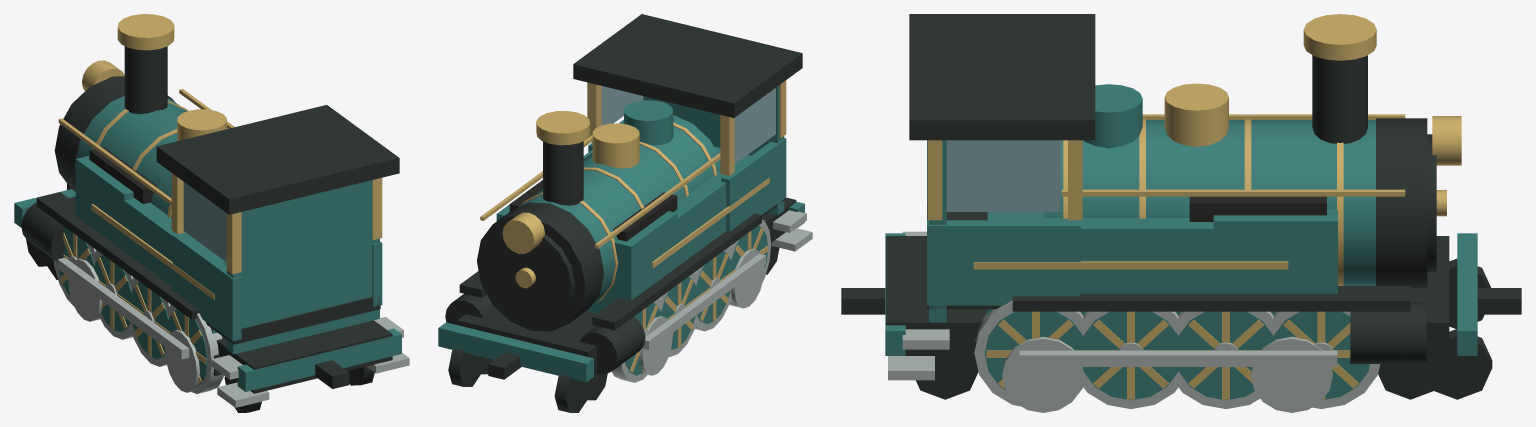
Rendered from alpine-monarch-lod1.glb.
The picture shows the model from 3 angles, left to right: view 1: azimuth 30°, elevation 25°; view 2: azimuth 150°, elevation 25°; view 3: azimuth 270°, elevation 25°; orthographic projection. The views are drawn at different scales.
Parts seen in each view (by area): view 1: frame.001, boiler.001, door_handle.001, water_tank.001, rod_-0.001, cab_glass.001, cab_step.001, tender_wheel.005, tender_wheel.004, coal_bed.001, wheel_face.010, wheel_tyre.011 (+11 smaller); view 2: frame.001, boiler.001, door_handle.001, water_tank.001, cab_glass.001, rod_-0.001, coal_bed.001, cab_step.001, tender_wheel.005, tender_wheel.004, pony_wheel.010, pony_wheel.007 (+11 smaller); view 3: frame.001, boiler.001, water_tank.001, door_handle.001, cab_glass.001, rod_0.001, wheel_face.014, tender_wheel.007, wheel_face.013, tender_wheel.006, coal_bed.001, tender_stripe.001 (+15 smaller).
Boxes of the visible parts, left/top/right/bottom form: frame.001: left=21, top=46, right=399, bottom=393; boiler.001: left=14, top=96, right=401, bottom=391; door_handle.001: left=58, top=14, right=382, bottom=274; water_tank.001: left=75, top=155, right=226, bottom=336; rod_-0.001: left=57, top=257, right=189, bottom=359; cab_glass.001: left=183, top=182, right=226, bottom=261; cab_step.001: left=211, top=317, right=409, bottom=407; tender_wheel.005: left=165, top=329, right=199, bottom=392; tender_wheel.004: left=68, top=258, right=102, bottom=321; coal_bed.001: left=89, top=147, right=157, bottom=204; wheel_face.010: left=131, top=282, right=169, bottom=359; wheel_tyre.011: left=167, top=304, right=223, bottom=393; frame.001: left=445, top=14, right=802, bottom=379; boiler.001: left=438, top=85, right=804, bottom=382; door_handle.001: left=480, top=80, right=786, bottom=302; water_tank.001: left=496, top=146, right=750, bottom=313; cab_glass.001: left=601, top=86, right=775, bottom=163; rod_-0.001: left=642, top=254, right=765, bottom=349; coal_bed.001: left=509, top=180, right=677, bottom=241; cab_step.001: left=771, top=210, right=812, bottom=251; tender_wheel.005: left=729, top=248, right=764, bottom=308; tender_wheel.004: left=639, top=316, right=672, bottom=375; pony_wheel.010: left=448, top=348, right=483, bottom=386; pony_wheel.007: left=554, top=374, right=591, bottom=412; frame.001: left=841, top=14, right=1521, bottom=363; boiler.001: left=885, top=84, right=1477, bottom=355; water_tank.001: left=987, top=209, right=1337, bottom=316; door_handle.001: left=927, top=14, right=1461, bottom=285; cab_glass.001: left=946, top=140, right=1060, bottom=211; rod_0.001: left=1019, top=350, right=1337, bottom=366; wheel_face.014: left=1081, top=311, right=1181, bottom=400; tender_wheel.007: left=1002, top=336, right=1084, bottom=412; wheel_face.013: left=1176, top=311, right=1273, bottom=400; tender_wheel.006: left=1251, top=336, right=1332, bottom=412; coal_bed.001: left=1189, top=196, right=1326, bottom=221; tender_stripe.001: left=973, top=261, right=1288, bottom=269.
Bounding box in the file's own units: 1.84 × 2.51 × 4.65.
